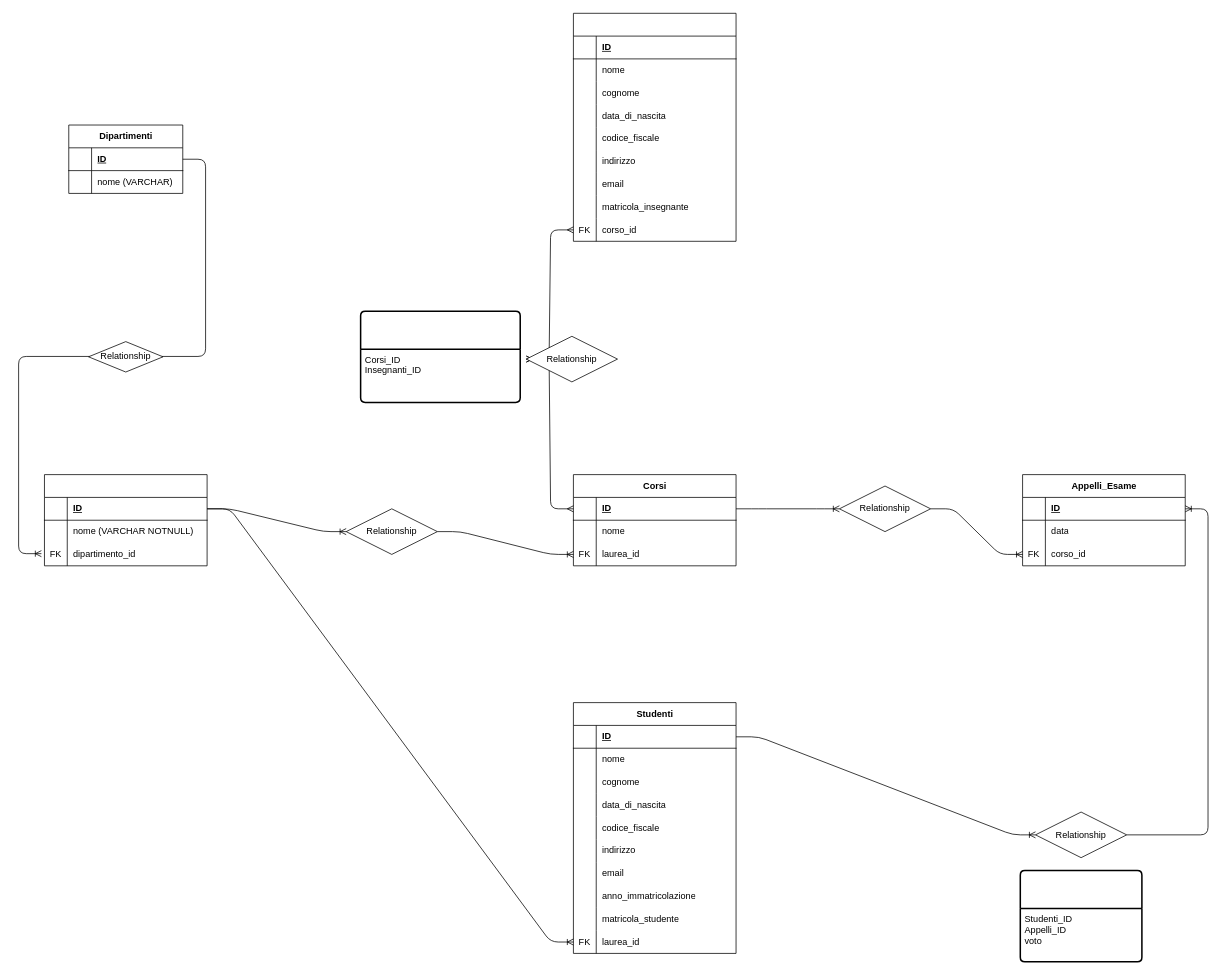
Image size: 1227x976. Some labels were removed from this diagram. The box of each missing label's shape, as (x1, y1, x2, y2) in pixels:
Corsi_di_Laurea: (44, 474, 207, 566)
Corsi_Insegnanti: (359, 310, 521, 403)
Insegnanti: (573, 13, 736, 241)
Iscrizione_appello: (1019, 869, 1142, 962)
